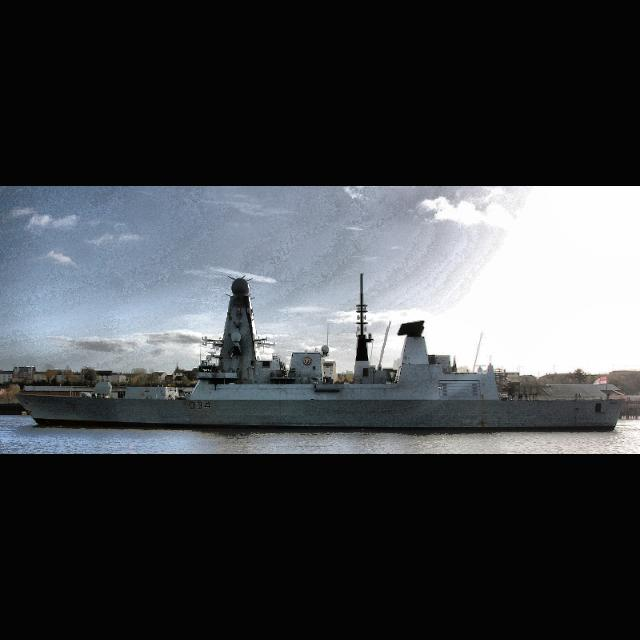combat_vessel: (12, 274, 626, 434)
